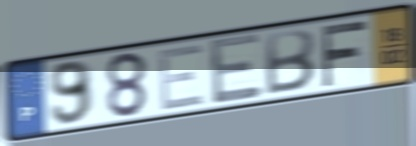8: (103, 50, 149, 120)
9: (47, 58, 98, 127)
B: (262, 27, 318, 98)
E: (207, 30, 265, 108), (155, 41, 207, 114)
F: (318, 17, 370, 90)
